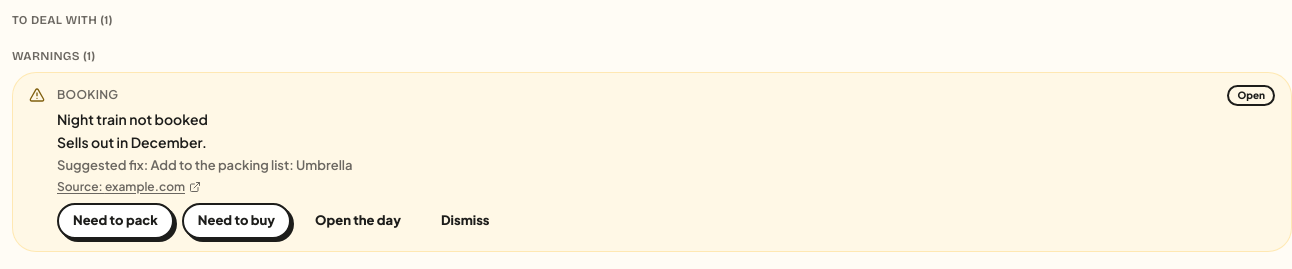
it: FindingList (R8, R10, spec 2026-10-18 A1, A2, A5) › an Open PACKING card shows Need to pack and Need to buy, not Apply; Need to buy applies with choice BUY
Expected: the button with aria-label "Need to pack: Night train not booked" is shown, [57,203,174,239]
What coordinates should you click on to do the following:
click the button with aria-label "Need to buy: Night train not booked"
I would click on:
 (236, 221)
Its box is [182,203,291,239].
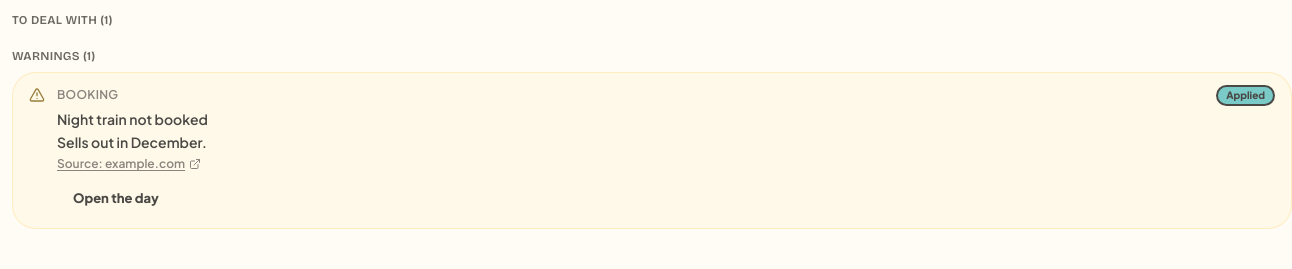
Result: the text "Applied" is shown at [1216,85,1275,106]
